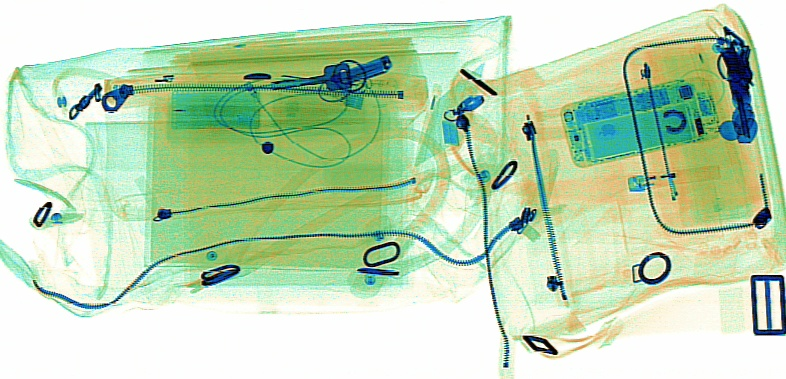lighter: (626, 162, 718, 194)
